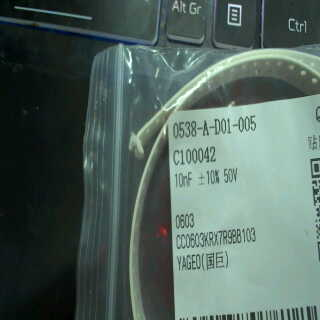10nF: (172, 169, 197, 191)
